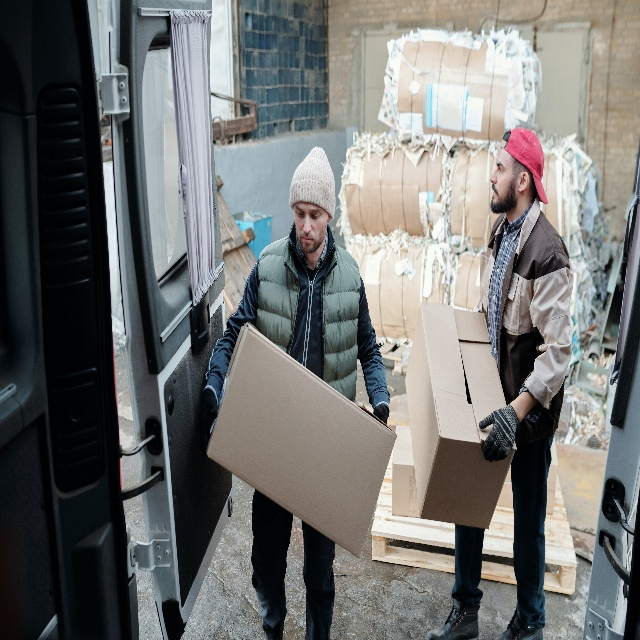Guantes: (478, 402, 521, 464), (198, 386, 219, 454), (373, 400, 389, 425)
